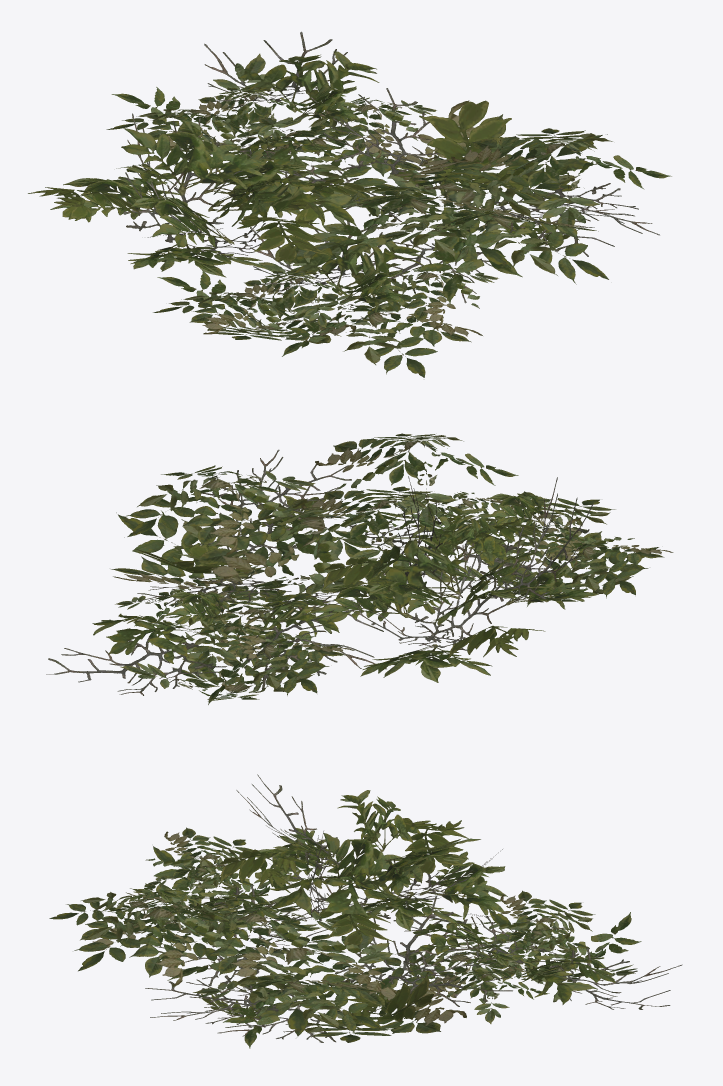
The model's file is bg_anh_foliage_te_b66_sm_old.FBX.
3 views of the same model, one above another, from view 1: azimuth 30°, elevation 25°; view 2: azimuth 150°, elevation 25°; view 3: azimuth 270°, elevation 25° (orthographic). The views are drawn at different scales.
Visible parts, largest first — view 1: bg_anh_foliage_te_b66_sm_old; view 2: bg_anh_foliage_te_b66_sm_old; view 3: bg_anh_foliage_te_b66_sm_old.
Part boxes in pixels (<box>): bg_anh_foliage_te_b66_sm_old: <box>28,31,671,377</box>; bg_anh_foliage_te_b66_sm_old: <box>46,433,673,704</box>; bg_anh_foliage_te_b66_sm_old: <box>49,774,682,1048</box>.
Size of the model in its own units: 239 by 55.8 by 274.
